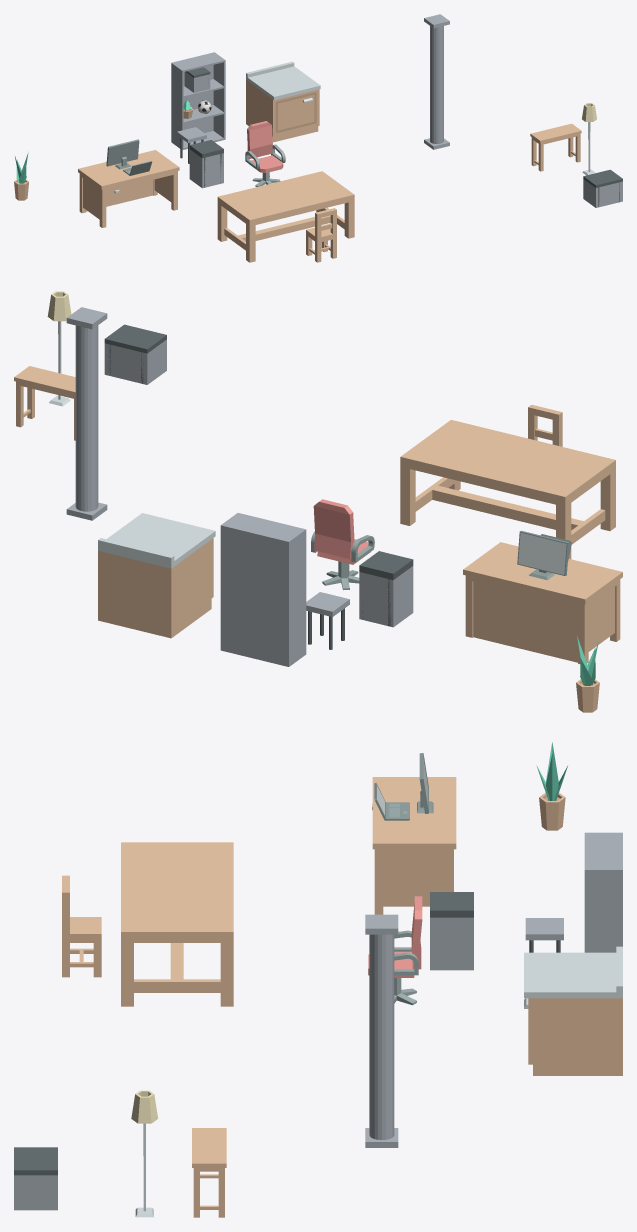
The picture shows the model from 3 angles, top to bottom: view 1: azimuth 30°, elevation 25°; view 2: azimuth 150°, elevation 25°; view 3: azimuth 270°, elevation 25°; orthographic projection. The views are drawn at different scales.
Parts seen in each view (by area): view 1: table_green__table(Clone), desk_blue__desk(Clone), cabinet_blue__kitchenCabinet(Clone), column_cyan__column_cyan shaft, deskchair_black__chair, cabinet_blue__door, sidetable_brown__sideTable(Clone), chair_cyan__chair(Clone), bin_gray__bin_gray shell, shelf_orange__shelf_orange side_l, shelf_orange__shelf_orange side_r, crate_red__crate_red shell (+7 smaller); view 2: table_green__table(Clone), desk_blue__desk(Clone), cabinet_blue__kitchenCabinet(Clone), shelf_orange__shelf_orange back, column_cyan__column_cyan shaft, deskchair_black__chair, shelf_orange__shelf_orange side_l, bin_gray__bin_gray shell, crate_red__crate_red shell, sidetable_brown__sideTable(Clone), monitor_gray__computerScreen(Clone), crate_red__crate_red lid (+8 smaller); view 3: table_green__table(Clone), cabinet_blue__kitchenCabinet(Clone), desk_blue__desk(Clone), column_cyan__column_cyan shaft, shelf_orange__shelf_orange side_r, bin_gray__bin_gray shell, sidetable_brown__sideTable(Clone), chair_cyan__chair(Clone), crate_red__crate_red shell, deskchair_black__chair, shelf_orange__shelf_orange board3, crate_red__crate_red lid (+7 smaller).
Part boxes in pixels (x1=…): table_green__table(Clone): x1=217, y1=171, x2=354, y2=262; desk_blue__desk(Clone): x1=78, y1=150, x2=179, y2=227; cabinet_blue__kitchenCabinet(Clone): x1=246, y1=61, x2=320, y2=142; column_cyan__column_cyan shaft: x1=430, y1=26, x2=443, y2=143; deskchair_black__chair: x1=245, y1=121, x2=285, y2=172; cabinet_blue__door: x1=275, y1=92, x2=316, y2=133; sidetable_brown__sideTable(Clone): x1=530, y1=123, x2=581, y2=171; chair_cyan__chair(Clone): x1=306, y1=208, x2=336, y2=262; bin_gray__bin_gray shell: x1=189, y1=149, x2=223, y2=188; shelf_orange__shelf_orange side_l: x1=171, y1=62, x2=183, y2=149; shelf_orange__shelf_orange side_r: x1=213, y1=52, x2=225, y2=139; crate_red__crate_red shell: x1=583, y1=179, x2=622, y2=207; table_green__table(Clone): x1=400, y1=420, x2=615, y2=558; desk_blue__desk(Clone): x1=463, y1=542, x2=622, y2=663; cabinet_blue__kitchenCabinet(Clone): x1=98, y1=513, x2=215, y2=638; shelf_orange__shelf_orange back: x1=223, y1=525, x2=286, y2=666; column_cyan__column_cyan shaft: x1=75, y1=325, x2=98, y2=511; deskchair_black__chair: x1=311, y1=499, x2=374, y2=564; shelf_orange__shelf_orange side_l: x1=286, y1=529, x2=306, y2=666; bin_gray__bin_gray shell: x1=359, y1=566, x2=413, y2=627; crate_red__crate_red shell: x1=104, y1=339, x2=166, y2=384; sidetable_brown__sideTable(Clone): x1=14, y1=366, x2=75, y2=440; monitor_gray__computerScreen(Clone): x1=517, y1=530, x2=569, y2=580; crate_red__crate_red lid: x1=104, y1=324, x2=166, y2=353; table_green__table(Clone): x1=121, y1=842, x2=233, y2=1006; cabinet_blue__kitchenCabinet(Clone): x1=524, y1=946, x2=622, y2=1075; desk_blue__desk(Clone): x1=372, y1=777, x2=456, y2=914; column_cyan__column_cyan shaft: x1=369, y1=934, x2=394, y2=1140; shelf_orange__shelf_orange side_r: x1=584, y1=868, x2=622, y2=952; bin_gray__bin_gray shell: x1=430, y1=917, x2=473, y2=970; sidetable_brown__sideTable(Clone): x1=192, y1=1128, x2=226, y2=1217; chair_cyan__chair(Clone): x1=62, y1=875, x2=101, y2=977; crate_red__crate_red shell: x1=14, y1=1175, x2=57, y2=1210; deskchair_black__chair: x1=368, y1=896, x2=422, y2=977; shelf_orange__shelf_orange board3: x1=584, y1=834, x2=620, y2=868; crate_red__crate_red lid: x1=14, y1=1147, x2=57, y2=1175.
Bounding box in the file's own units: 8.56 × 2.2 × 5.54.
